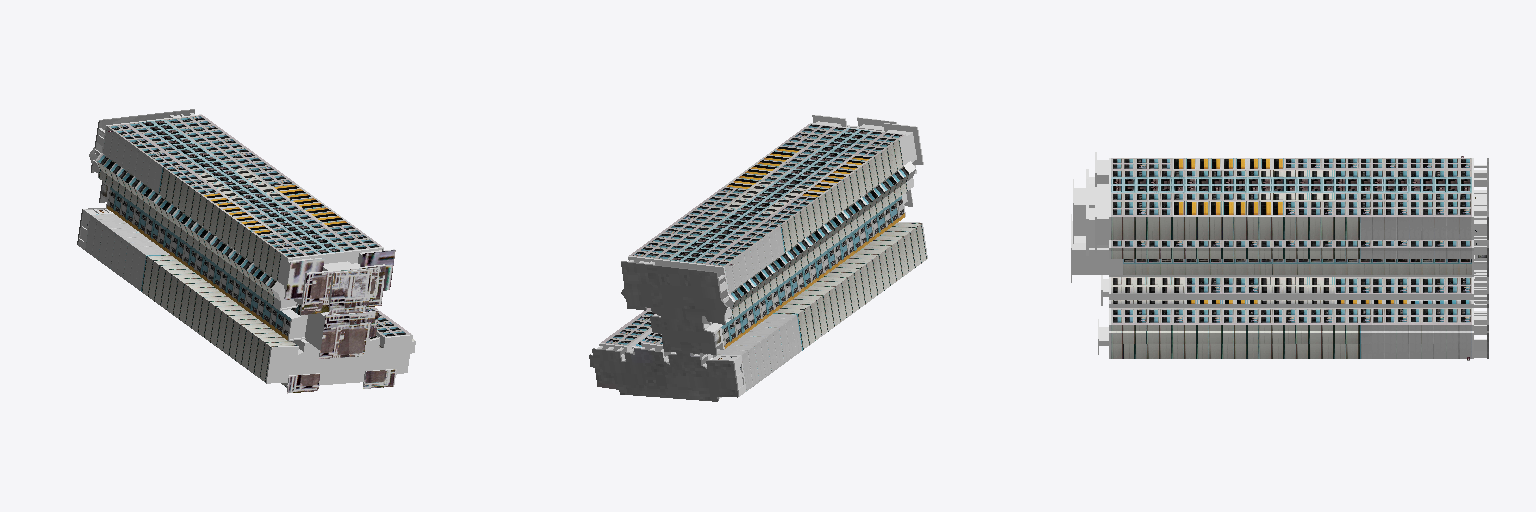
3 renders of one model, left to right at view 1: azimuth 30°, elevation 25°; view 2: azimuth 150°, elevation 25°; view 3: azimuth 270°, elevation 25°, orthographic.
Parts seen in each view (by area): view 1: polygon.826; view 2: polygon.826; view 3: polygon.826.
Part boxes in pixels (bbox=[...]): polygon.826: bbox=[77, 109, 415, 393]; polygon.826: bbox=[589, 115, 927, 401]; polygon.826: bbox=[1071, 152, 1488, 360].
Bounding box in the file's own units: 40.8 × 39.44 × 98.63.
1 materials, 1 textured.